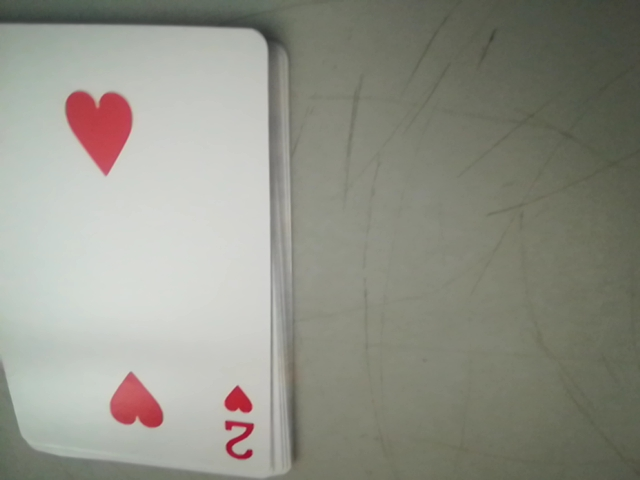hx 2: (221, 395, 266, 474)
